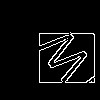W: (28, 25, 94, 91)
